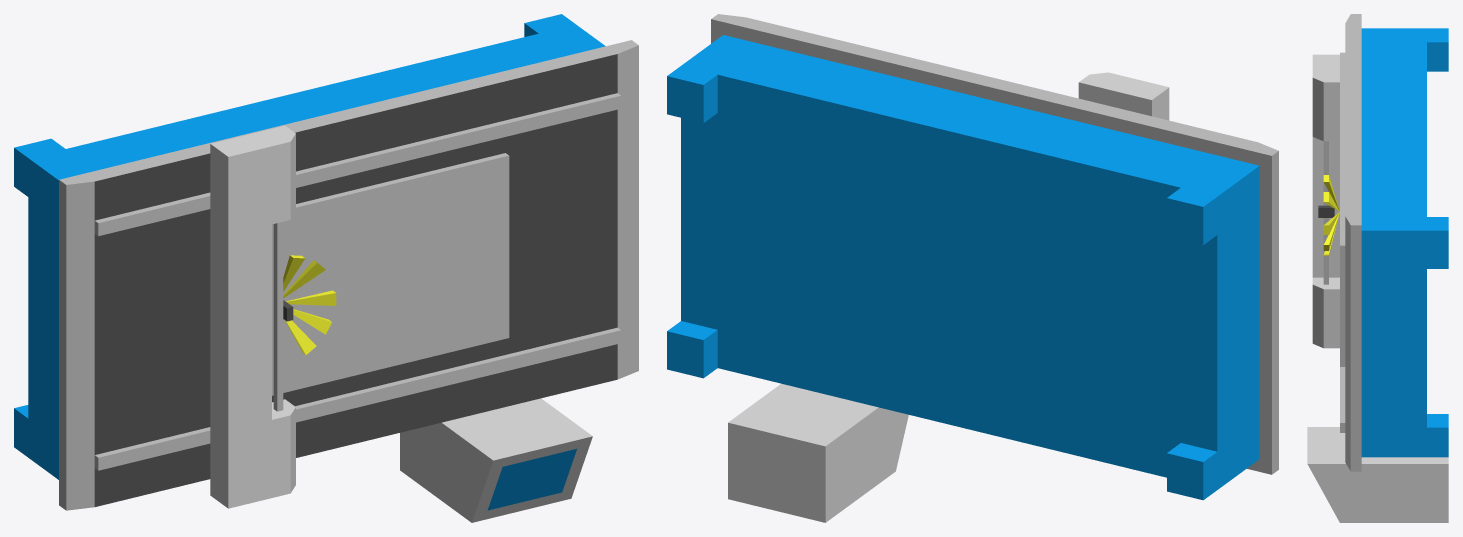
File: cnc_cutting_machine_4_state_2.dae
The picture shows the model from 3 angles, left to right: view 1: azimuth 30°, elevation 25°; view 2: azimuth 150°, elevation 25°; view 3: azimuth 270°, elevation 25°; orthographic projection. The views are drawn at different scales.
Visible parts, largest first — view 1: coords_ME_ID59_MA_material, coords_ME_ID103_MA_material_11, coords_ME_ID11_MA_material_11, coords_ME_ID25_MA_material_6, coords_ME_ID17_MA_material_8, coords_ME_ID47_MA_material, coords_ME_ID65_MA_material, coords_ME_ID53_MA_material_8, coords_ME_ID33_MA_material_6, coords_ME_ID3_MA_material_11; view 2: coords_ME_ID25_MA_material_6, coords_ME_ID11_MA_material_11, coords_ME_ID53_MA_material_8, coords_ME_ID17_MA_material_8; view 3: coords_ME_ID25_MA_material_6, coords_ME_ID53_MA_material_8, coords_ME_ID11_MA_material_11, coords_ME_ID17_MA_material_8, coords_ME_ID103_MA_material_11, coords_ME_ID3_MA_material_11, coords_ME_ID39_MA_material, coords_ME_ID85_MA_material_3.
Part boxes in pixels (bbox=[...]): coords_ME_ID59_MA_material: bbox=[94, 109, 617, 454]; coords_ME_ID103_MA_material_11: bbox=[272, 153, 509, 395]; coords_ME_ID11_MA_material_11: bbox=[59, 40, 638, 510]; coords_ME_ID25_MA_material_6: bbox=[14, 14, 605, 479]; coords_ME_ID17_MA_material_8: bbox=[210, 125, 295, 508]; coords_ME_ID47_MA_material: bbox=[94, 54, 617, 220]; coords_ME_ID65_MA_material: bbox=[94, 344, 617, 506]; coords_ME_ID53_MA_material_8: bbox=[400, 398, 592, 522]; coords_ME_ID33_MA_material_6: bbox=[487, 449, 576, 510]; coords_ME_ID3_MA_material_11: bbox=[273, 222, 283, 411]; coords_ME_ID25_MA_material_6: bbox=[667, 35, 1259, 500]; coords_ME_ID11_MA_material_11: bbox=[711, 14, 1278, 474]; coords_ME_ID53_MA_material_8: bbox=[728, 383, 908, 522]; coords_ME_ID17_MA_material_8: bbox=[1078, 72, 1169, 120]; coords_ME_ID25_MA_material_6: bbox=[1361, 28, 1448, 457]; coords_ME_ID53_MA_material_8: bbox=[1307, 427, 1448, 522]; coords_ME_ID11_MA_material_11: bbox=[1340, 14, 1361, 471]; coords_ME_ID17_MA_material_8: bbox=[1312, 54, 1339, 348]; coords_ME_ID103_MA_material_11: bbox=[1340, 255, 1345, 366]; coords_ME_ID3_MA_material_11: bbox=[1323, 141, 1328, 284]; coords_ME_ID39_MA_material: bbox=[1318, 205, 1334, 217]; coords_ME_ID85_MA_material_3: bbox=[1323, 175, 1339, 210].
Bounding box in the file's own units: 47.09 × 34.8 × 13.31.
